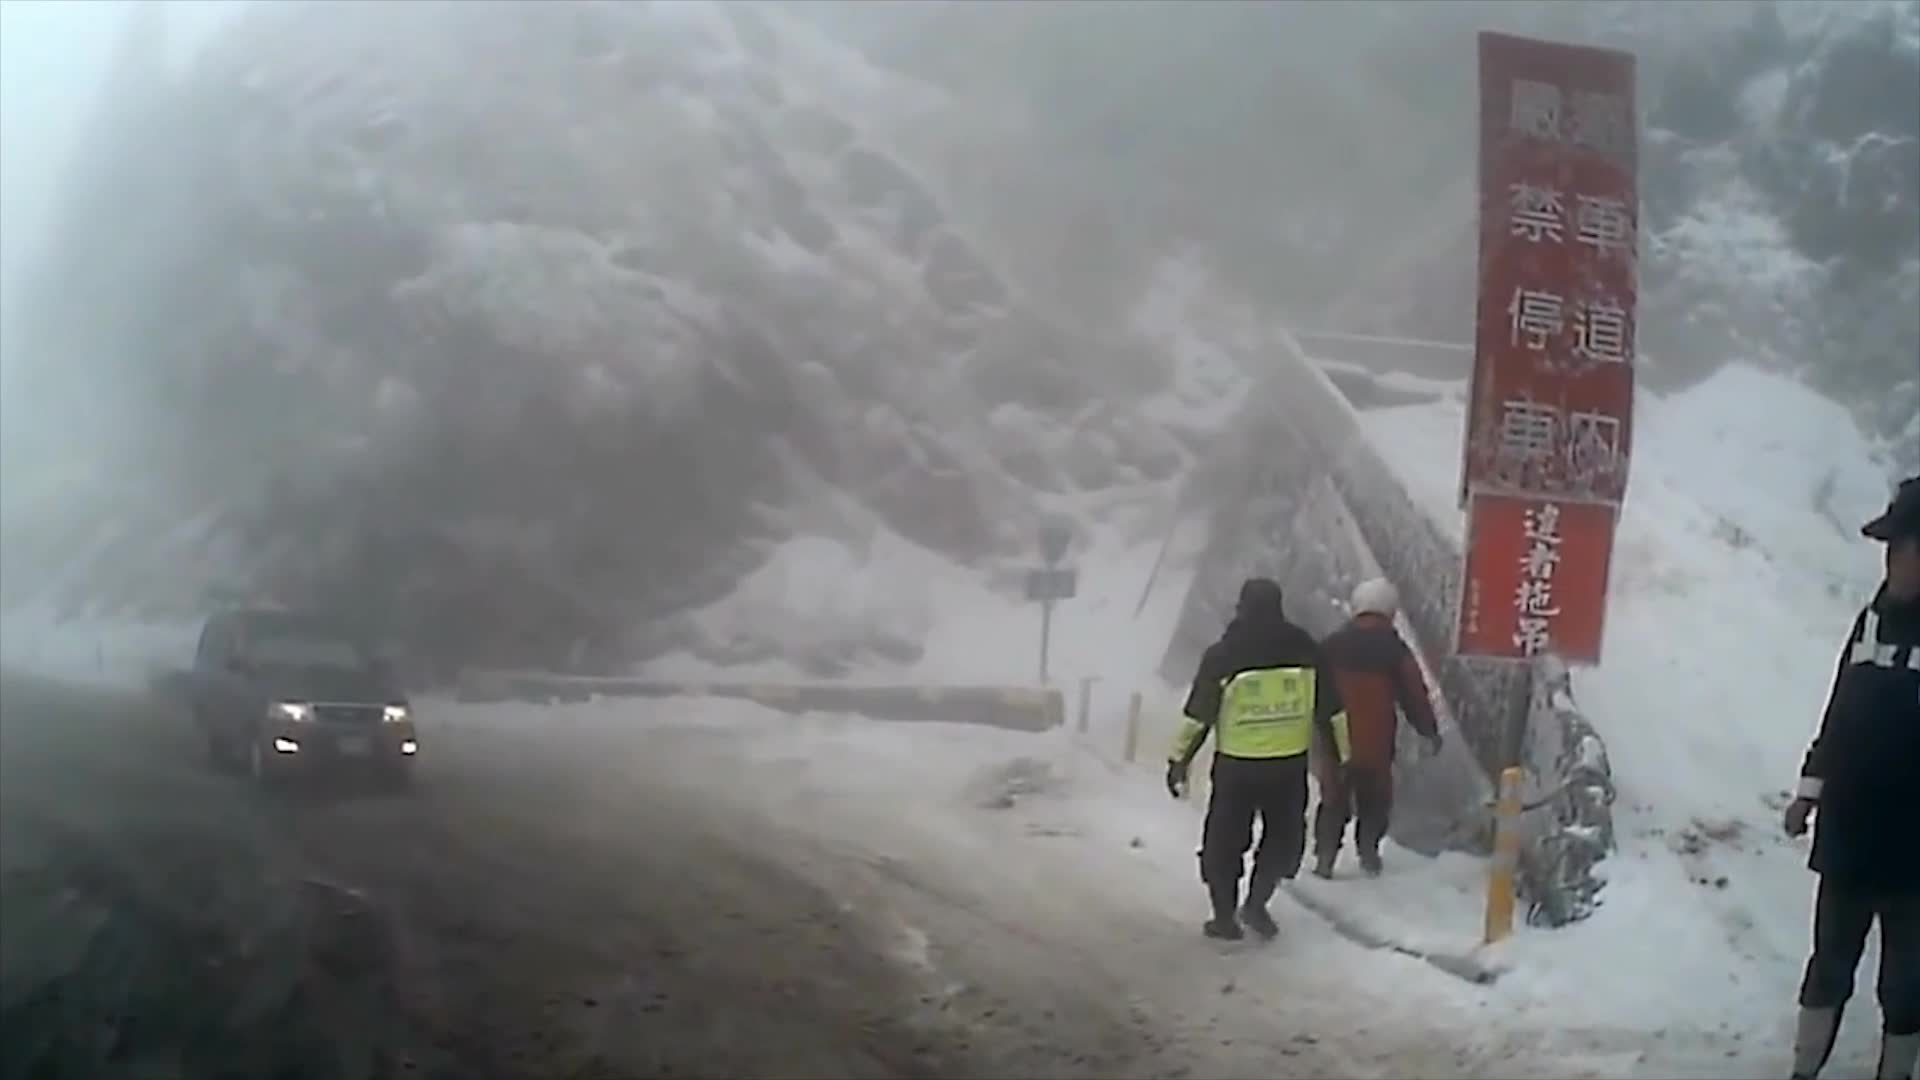pedestrian: (1777, 477, 1920, 1080), (1171, 581, 1367, 952), (1314, 576, 1443, 882)
vehicle: (188, 605, 421, 794)
